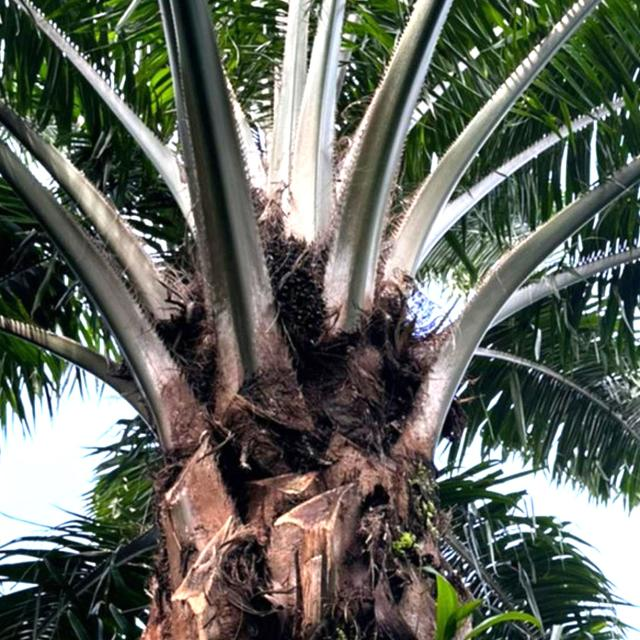unripe: (251, 237, 350, 363)
